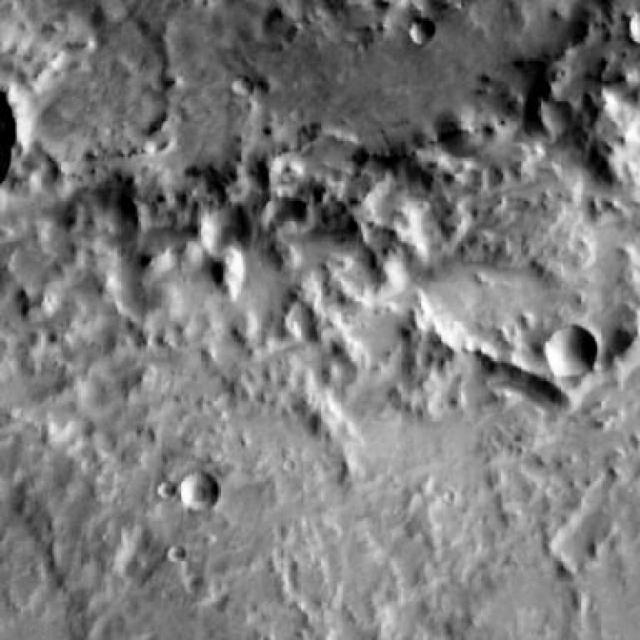crater: (546, 324, 596, 376), (180, 471, 218, 509), (408, 14, 438, 44), (230, 76, 252, 98), (154, 482, 172, 500), (168, 544, 185, 561), (632, 18, 640, 51)
